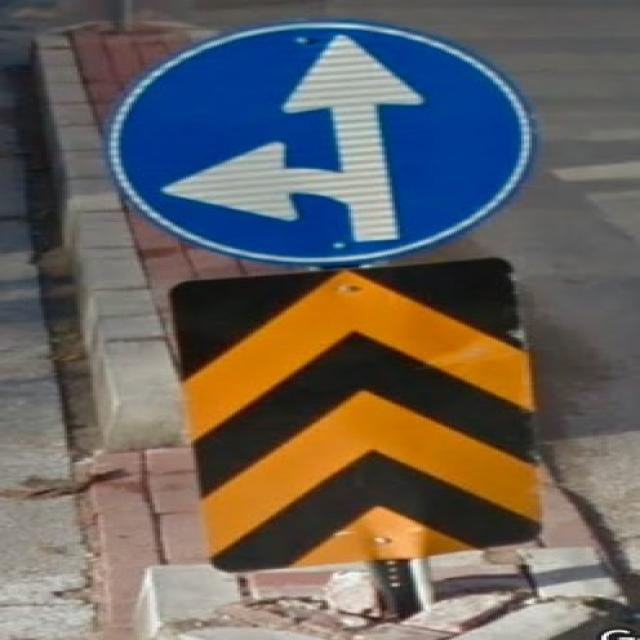Straight or Left: (108, 22, 534, 264)
